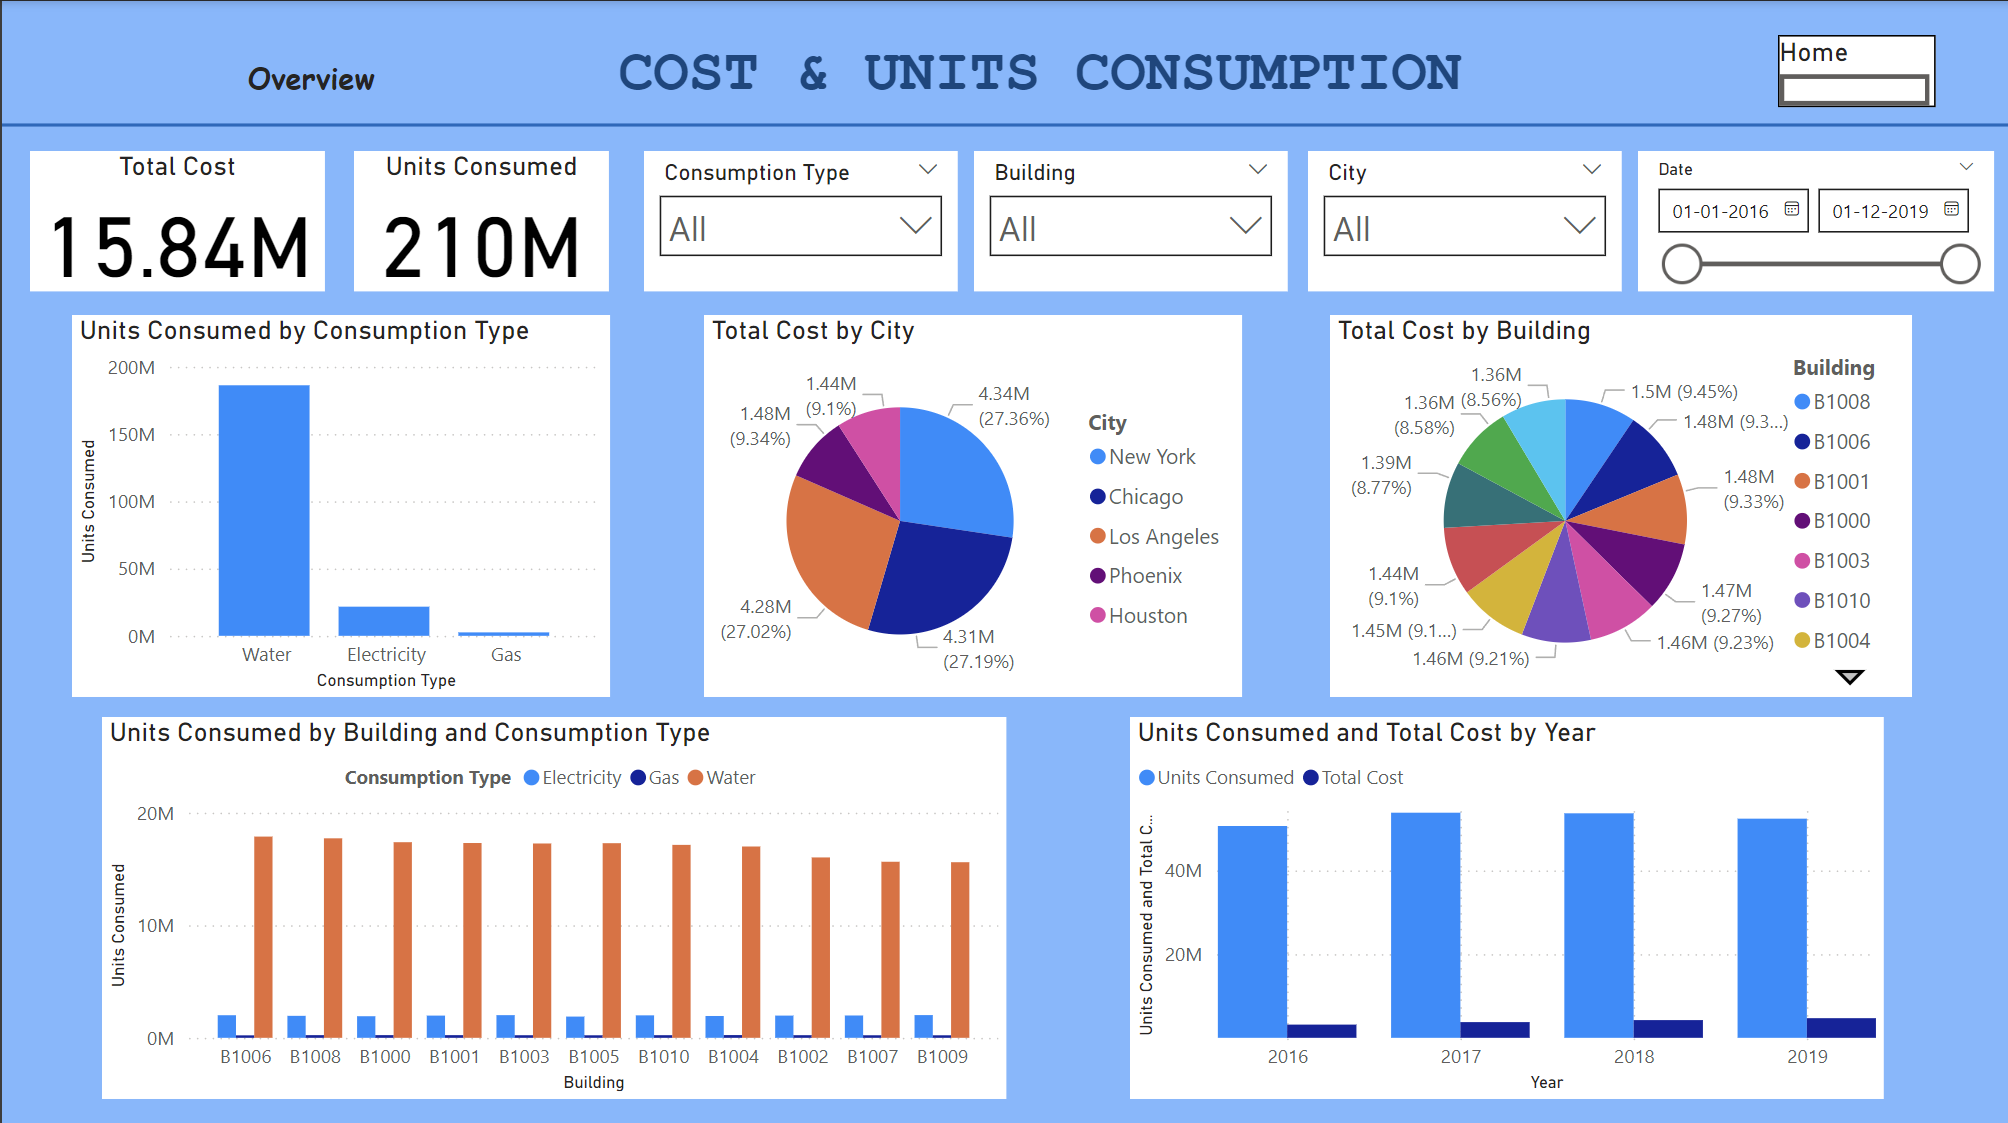

The page's visual inventory and layout, read from the dashboard file:
{"tool":"powerbi","page":{"name":"Page 2","canvas":[1280,720],"ordinal":1},"visuals":[{"type":"shape","box":[0,10.2,1280,137.7],"z":0},{"type":"textbox","box":[343.3,20.9,637.3,58.2],"z":1000},{"type":"textbox","box":[151.7,30.6,100.7,38.2],"z":2000},{"type":"card","title":"Total Cost","fields":{"Values":["Energy Consumptions.Total Cost"]},"box":[17.9,95.5,188.1,89.6],"z":3000},{"type":"card","title":"Units Consumed","fields":{"Values":["Energy Consumptions.Units Consumed"]},"box":[223.9,95.5,162.7,89.6],"z":4000},{"type":"slicer","fields":{"Values":["Energy Consumptions.Consumption Type"]},"box":[409,95.5,200,89.6],"z":5000},{"type":"slicer","fields":{"Values":["Energy Consumptions.Building"]},"box":[619.4,95.5,200,89.6],"z":6000},{"type":"slicer","fields":{"Values":["Building Master.City"]},"box":[832.8,95.5,200,89.6],"z":7000},{"type":"slicer","fields":{"Values":["Energy Consumptions.Date"]},"box":[1043.3,95.5,226.9,89.6],"z":8000},{"type":"clusteredColumnChart","fields":{"Category":["Energy Consumptions.Consumption Type"],"Y":["Energy Consumptions.Units Consumed"]},"box":[44.6,200.2,342.9,243.5],"z":9000},{"type":"pieChart","fields":{"Category":["Building Master.Building"],"Y":["Energy Consumptions.Total Cost"]},"box":[846.5,200.2,371,243.5],"z":10000},{"type":"pieChart","fields":{"Category":["Building Master.City"],"Y":["Energy Consumptions.Total Cost"]},"box":[447.5,200.2,342.9,243.5],"z":11000},{"type":"lineClusteredColumnComboChart","fields":{"Category":["Building Master.Building"],"Y":["Energy Consumptions.Units Consumed"],"Series":["Energy Consumptions.Consumption Type"]},"box":[63.7,456.4,576.3,243.5],"z":12000},{"type":"clusteredColumnChart","fields":{"Category":["Energy Consumptions.Year"],"Y":["Energy Consumptions.Units Consumed","Energy Consumptions.Total Cost"]},"box":[719,456.4,480.6,243.5],"z":13000},{"type":"actionButton","title":"Home","box":[1132.2,21.1,100.7,46],"z":13001}]}

Visuals, with their boxes in screenshot pixels (x1, y1, x2, y2), scaled from the page's 1280x720 canvas onto the 2008x1123 screenshot:
shape: Rect(0, 16, 2007, 231)
textbox: Rect(539, 33, 1538, 123)
textbox: Rect(238, 48, 396, 107)
"Total Cost" card: Rect(28, 149, 323, 289)
"Units Consumed" card: Rect(351, 149, 606, 289)
slicer - Energy Consumptions.Consumption Type: Rect(642, 149, 955, 289)
slicer - Energy Consumptions.Building: Rect(972, 149, 1285, 289)
slicer - Building Master.City: Rect(1306, 149, 1620, 289)
slicer - Energy Consumptions.Date: Rect(1637, 149, 1993, 289)
clusteredColumnChart - Energy Consumptions.Consumption Type x Energy Consumptions.Units Consumed: Rect(70, 312, 608, 692)
pieChart - Building Master.Building x Energy Consumptions.Total Cost: Rect(1328, 312, 1910, 692)
pieChart - Building Master.City x Energy Consumptions.Total Cost: Rect(702, 312, 1240, 692)
lineClusteredColumnComboChart - Building Master.Building x Energy Consumptions.Units Consumed: Rect(100, 712, 1004, 1092)
clusteredColumnChart - Energy Consumptions.Year x Energy Consumptions.Units Consumed: Rect(1128, 712, 1882, 1092)
"Home" actionButton: Rect(1776, 33, 1934, 105)
